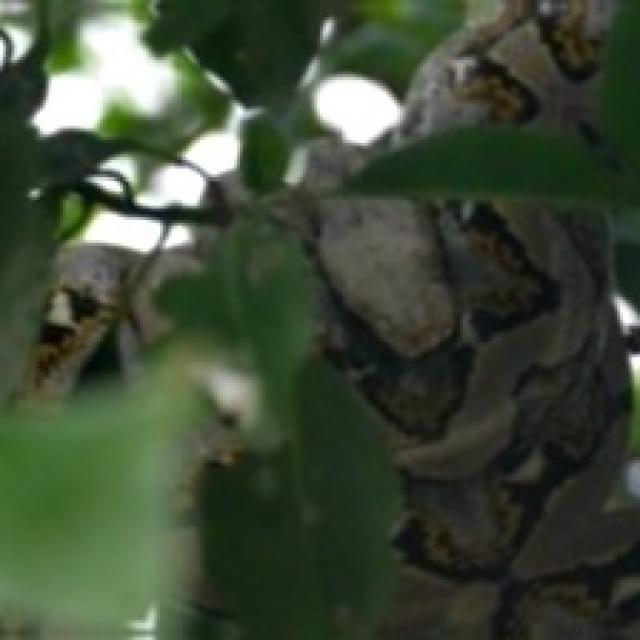reticulated python: (319, 201, 640, 639), (390, 1, 615, 147), (22, 244, 138, 397)
